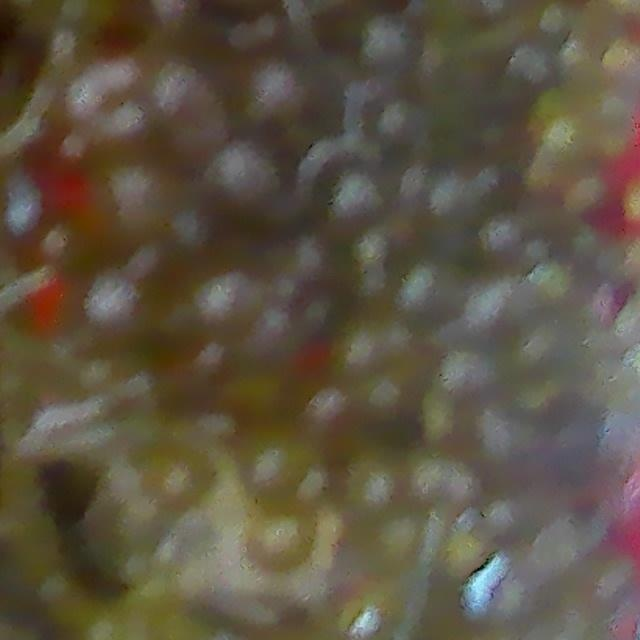SeaGrape: (329, 171, 386, 238), (102, 171, 167, 229), (78, 277, 130, 340), (239, 68, 309, 114), (360, 17, 419, 71), (372, 95, 423, 155), (153, 68, 206, 121), (204, 271, 248, 333), (218, 154, 271, 205)
